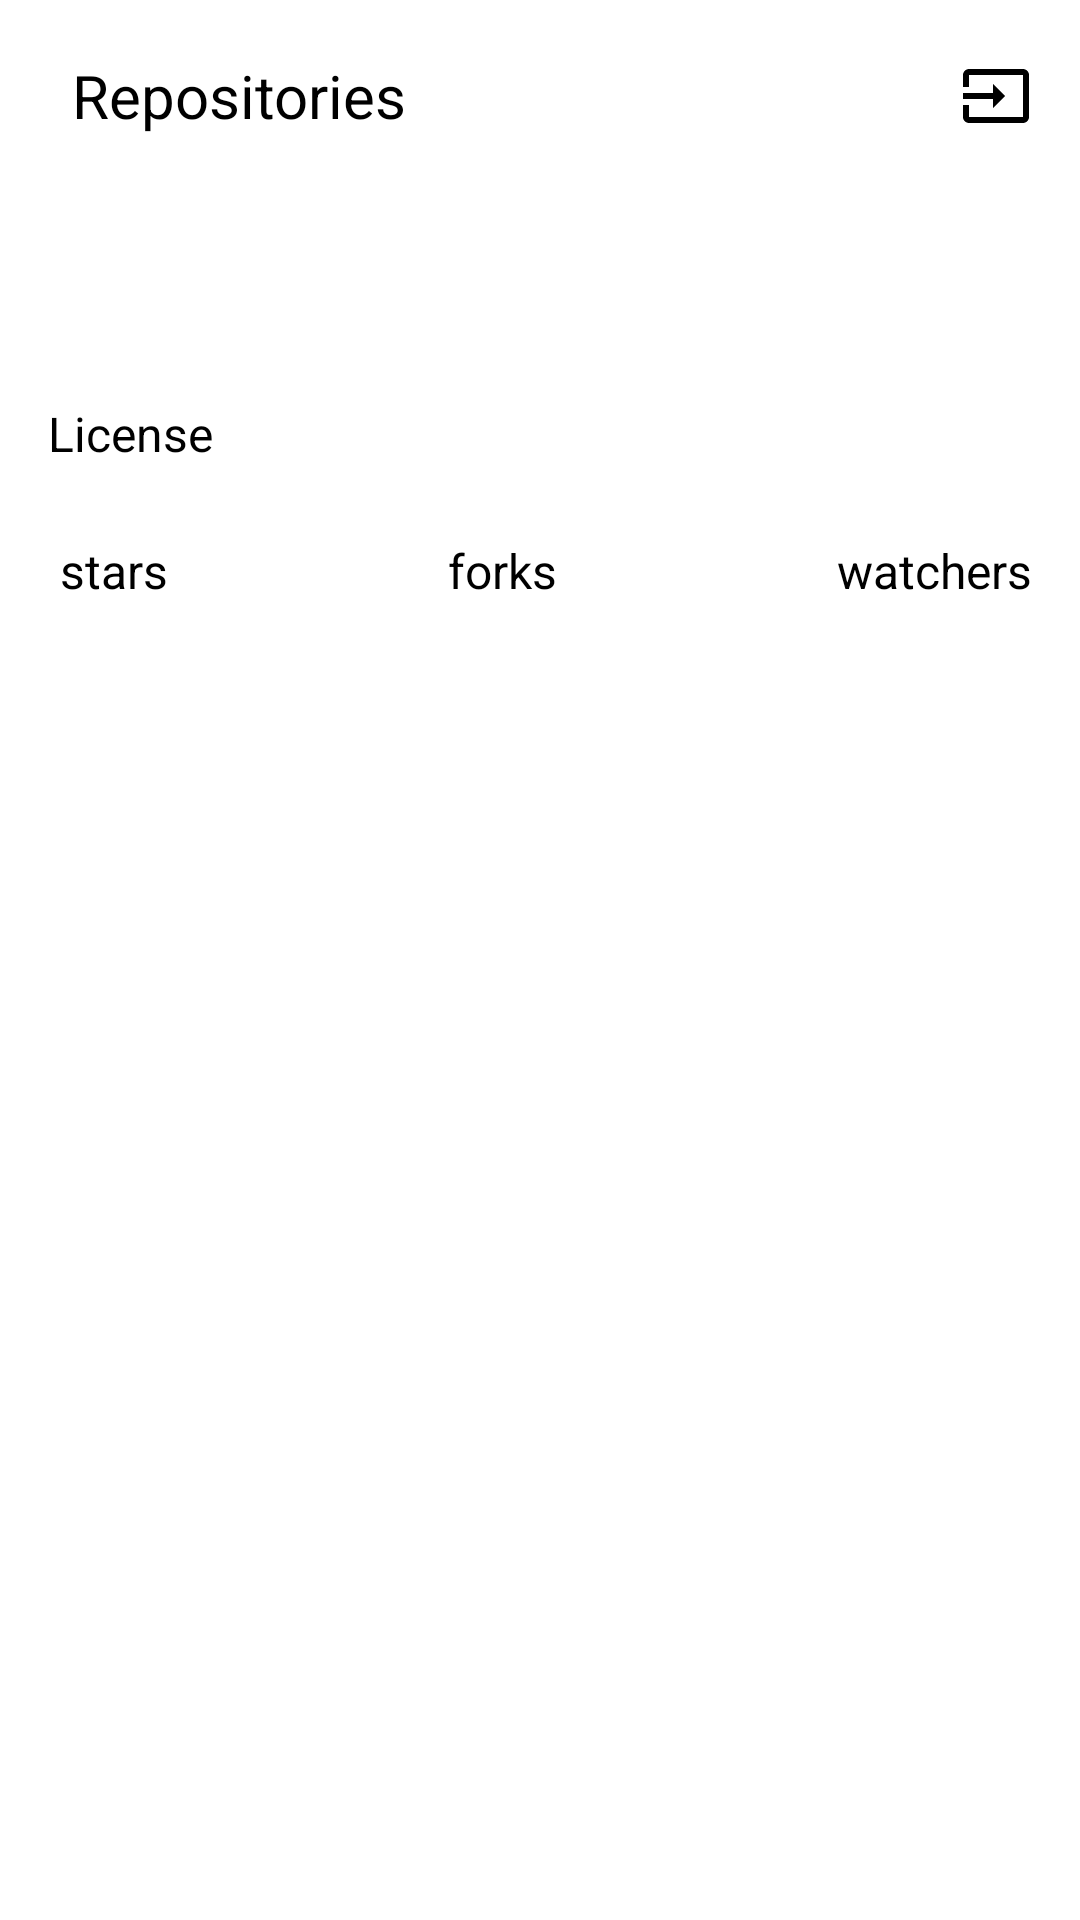

Screen size 1080 × 1920. Icon name, then its box in pixels as (x1, y1, x2, y2):
This is Input button: (963, 69, 1029, 123)
